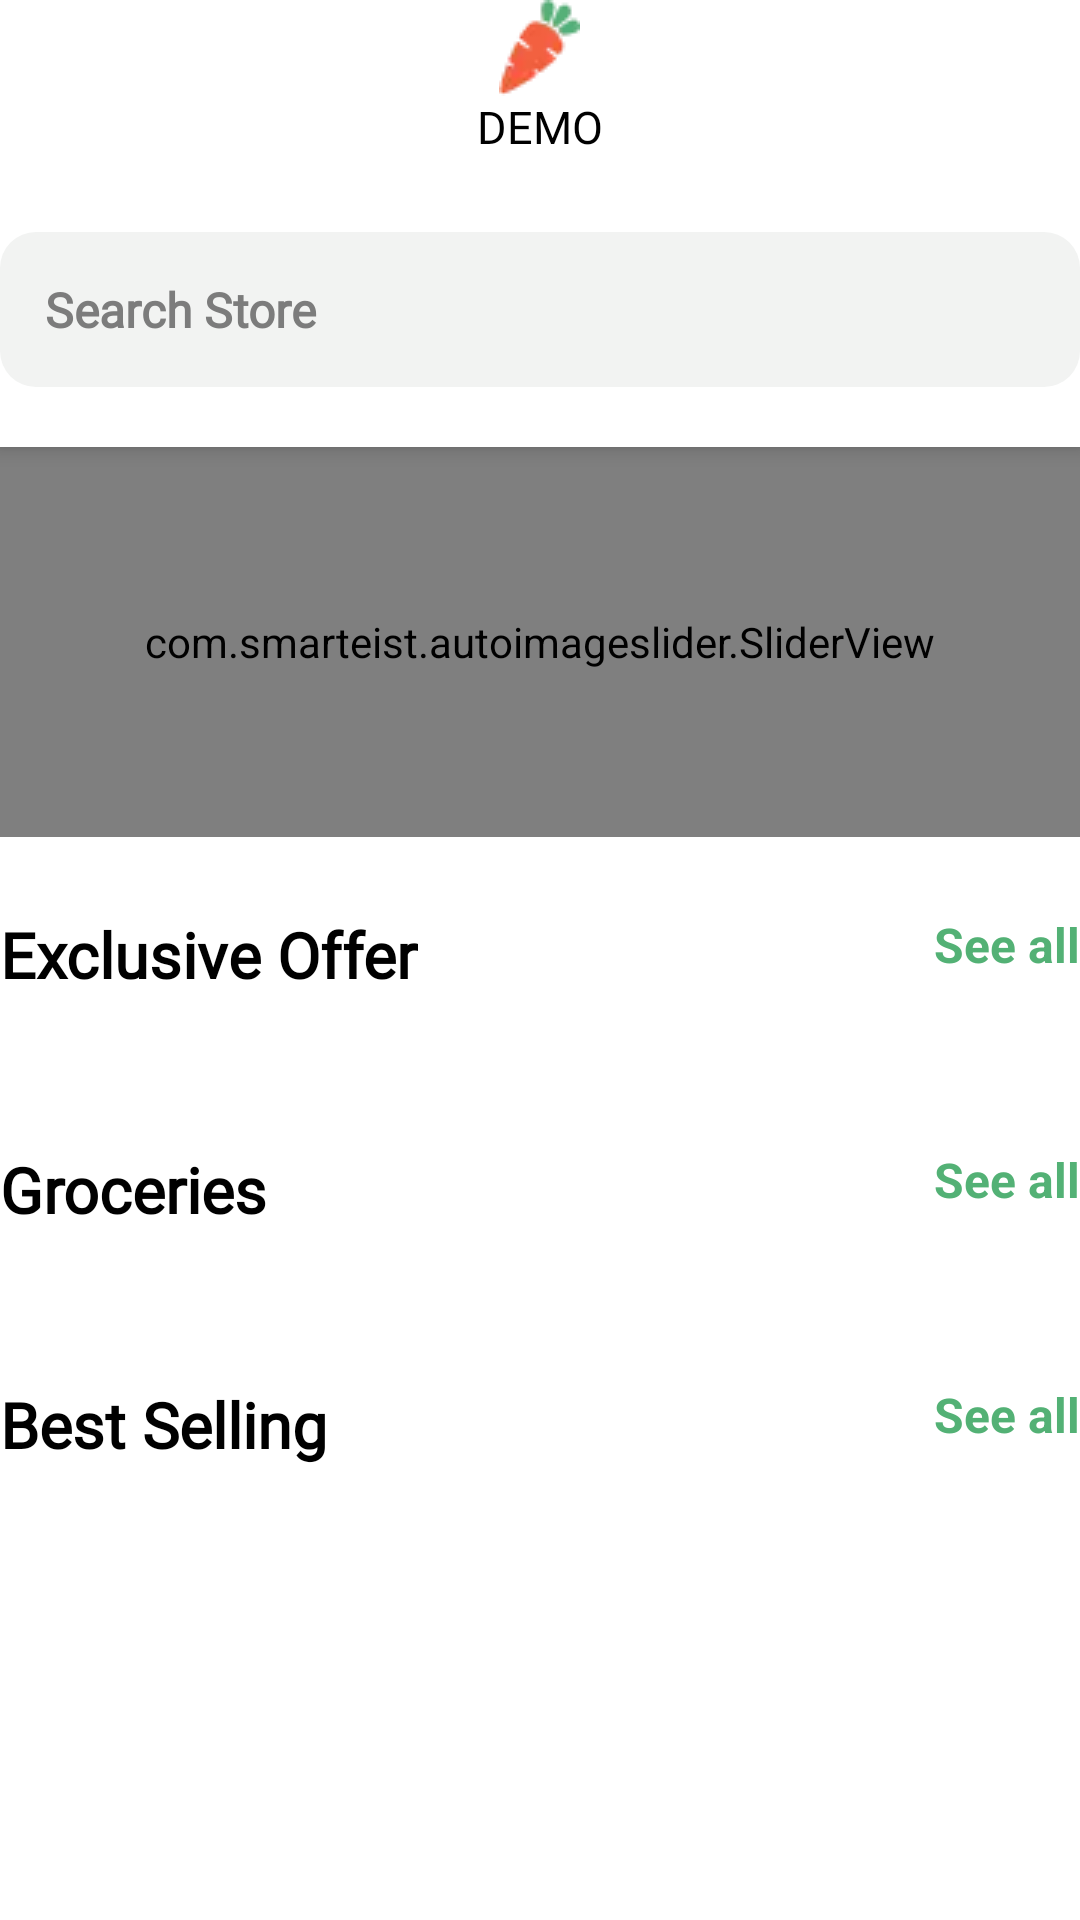

Where icons sit on this 1080w x 1920h app screen, as bbox=[x1, y1, x2, y2]:
carrot: bbox=[499, 0, 580, 94]
